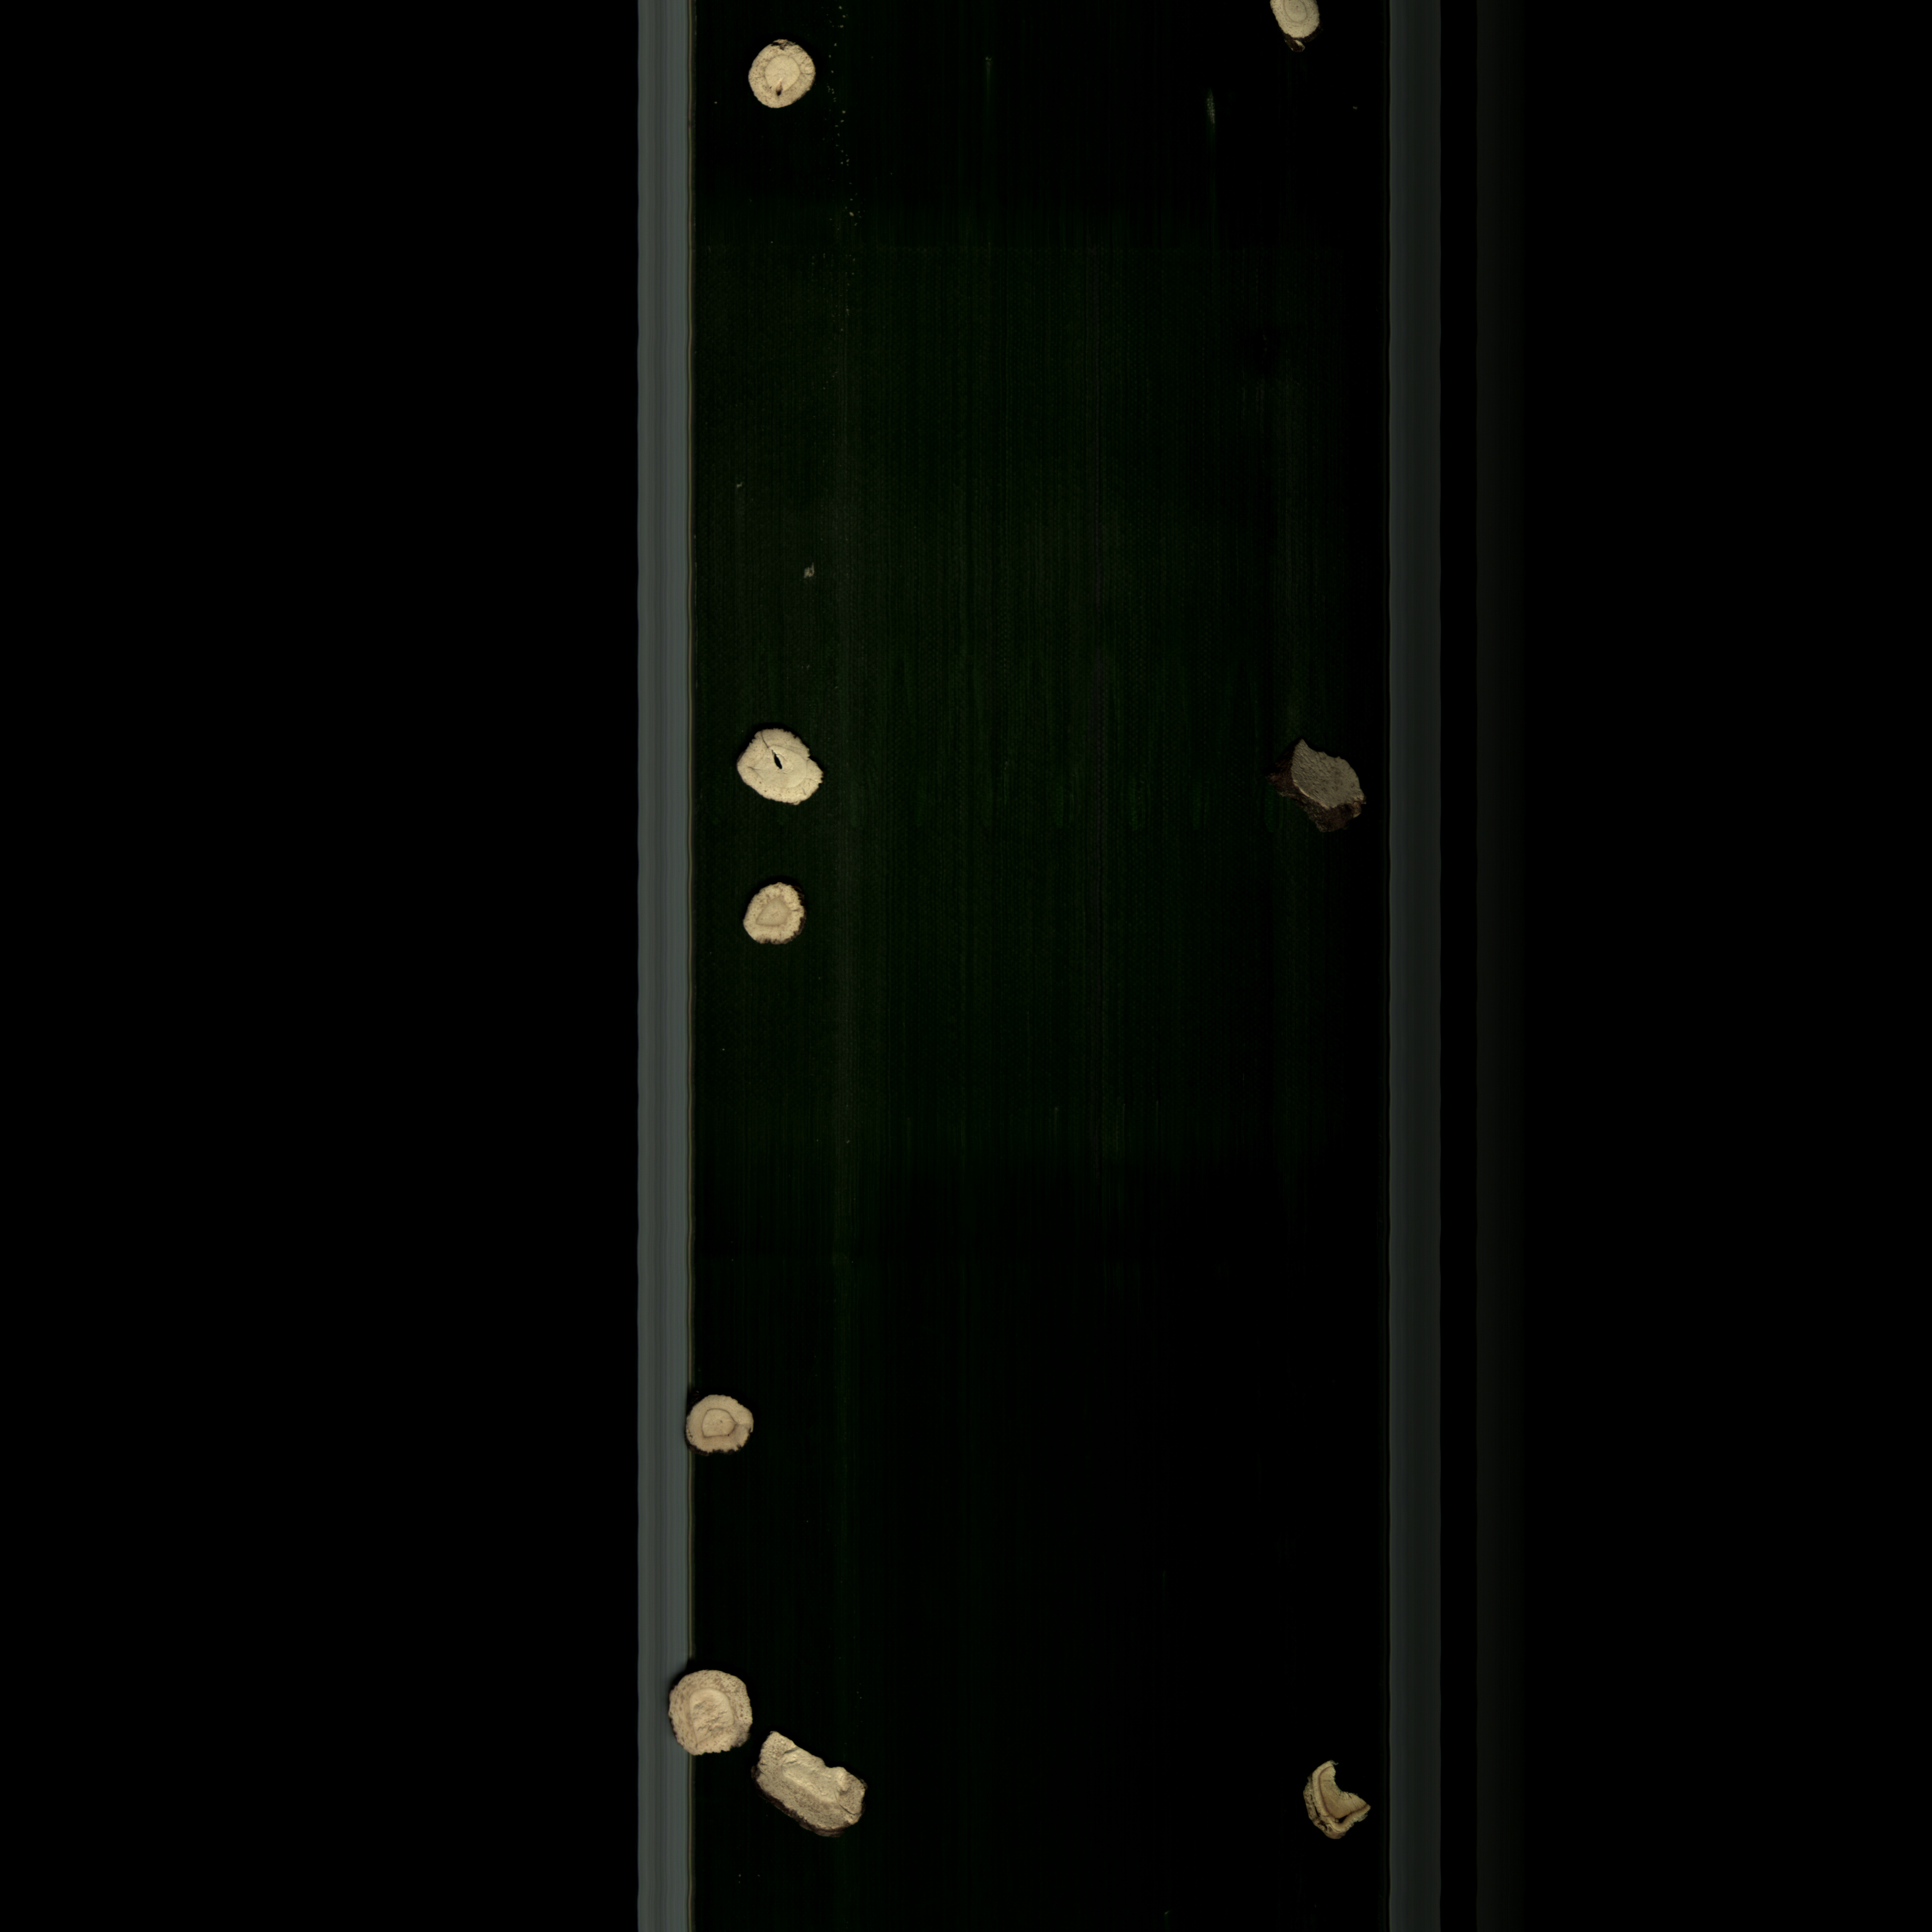bark: (1274, 734, 1373, 839)
debris: (755, 1721, 876, 1845)
hole: (729, 722, 839, 824), (745, 35, 832, 124)
moldy: (1290, 1753, 1387, 1847), (729, 874, 816, 955)
